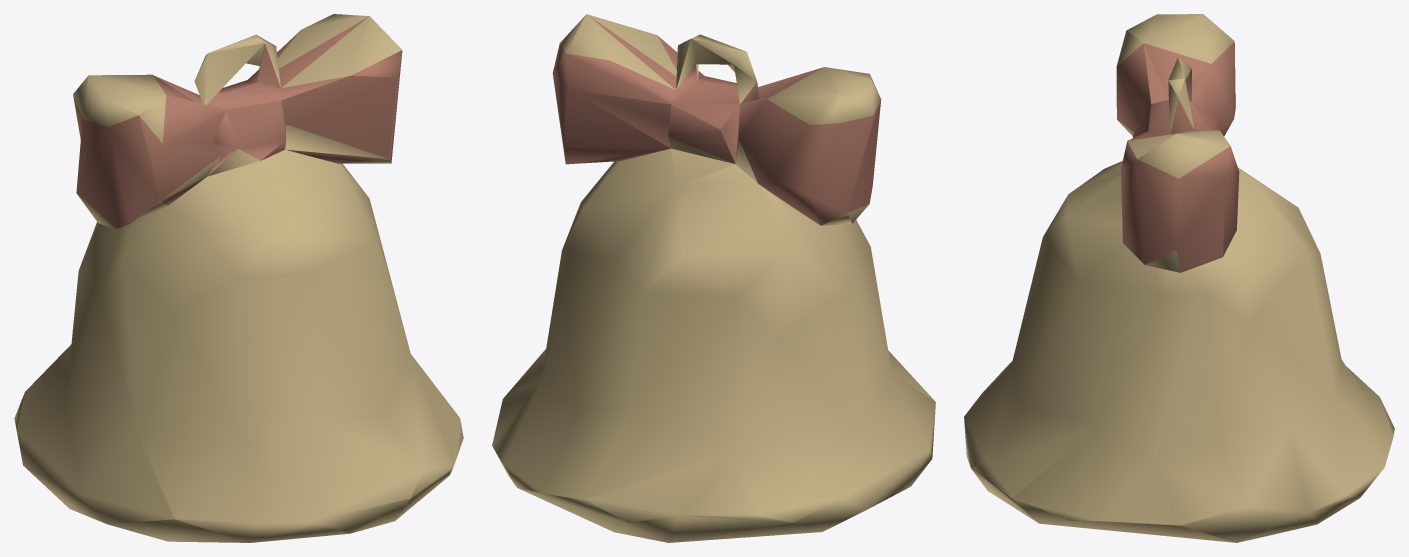
Rendered from bell_01.medium.glb.
The picture shows the model from 3 angles, left to right: view 1: azimuth 30°, elevation 25°; view 2: azimuth 150°, elevation 25°; view 3: azimuth 270°, elevation 25°; orthographic projection. The views are drawn at different scales.
Size of the model in its own units: 1.46 by 1.74 by 1.52.
